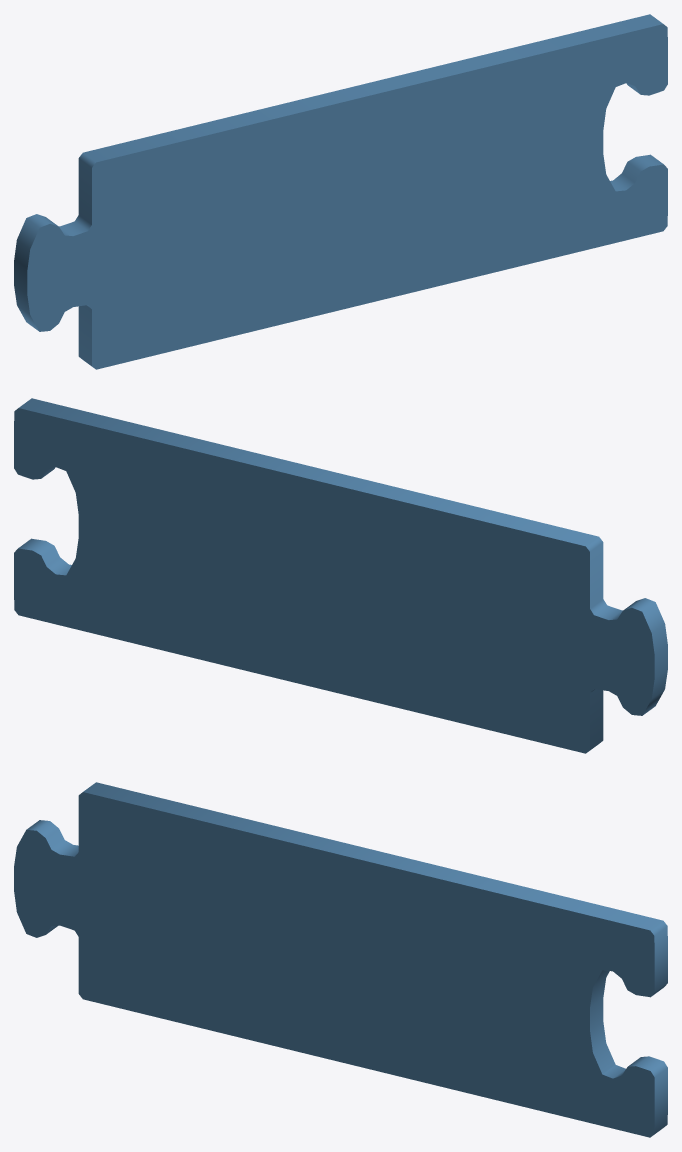
Rendered from Blockly.DAE.
The picture shows the model from 3 angles, top to bottom: view 1: azimuth 30°, elevation 25°; view 2: azimuth 150°, elevation 25°; view 3: azimuth 330°, elevation 25°; orthographic projection.
Parts seen in each view (by area): view 1: blockly; view 2: blockly; view 3: blockly.
Boxes of the visible parts, x1,y1,x2,y2 form: blockly: (14,14,667,369); blockly: (14,398,667,753); blockly: (14,782,667,1137).
Bounding box in the file's own units: 3 × 0.108 × 0.9269.
Materials: 1 (1 with a texture image).
